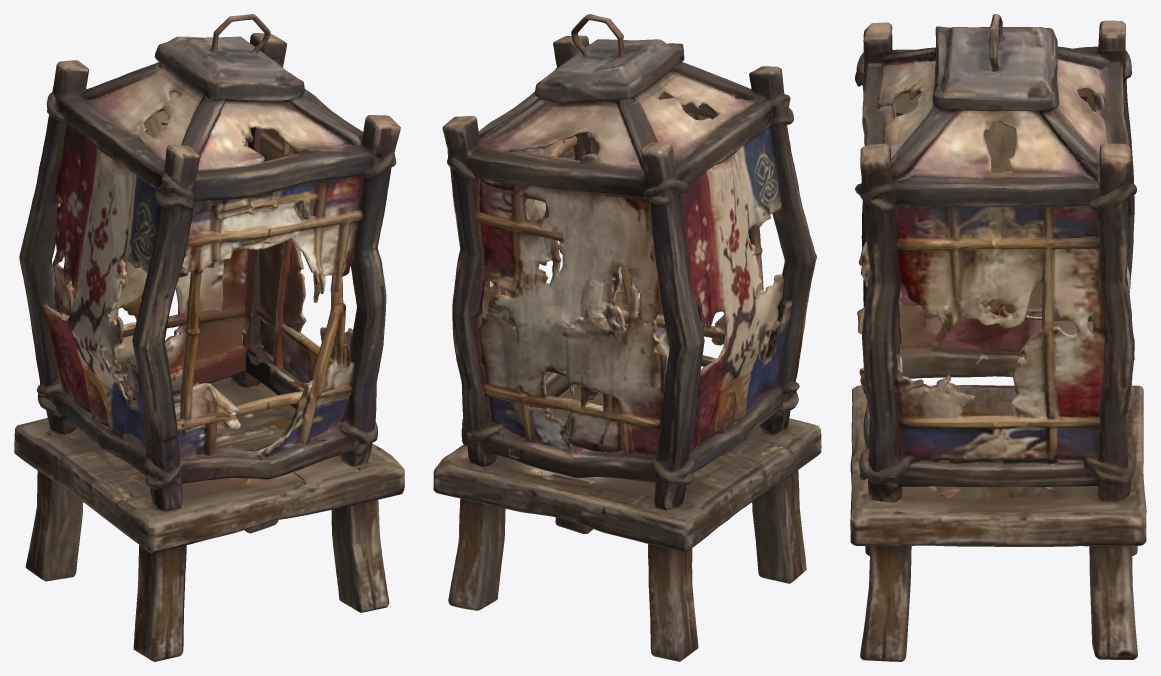
Rendered from lantern-broken.glb.
3 renders of one model, left to right at view 1: azimuth 30°, elevation 25°; view 2: azimuth 150°, elevation 25°; view 3: azimuth 270°, elevation 25°, orthographic. The views are drawn at different scales.
Visible parts, largest first — view 1: geometry_0; view 2: geometry_0; view 3: geometry_0.
Boxes of the visible parts, bbox=[...] form: geometry_0: bbox=[14, 14, 404, 661]; geometry_0: bbox=[433, 14, 821, 661]; geometry_0: bbox=[850, 14, 1146, 661].
Bounding box in the file's own units: 0.3097 × 0.65 × 0.2908.
Materials: 1 (1 with a texture image).
